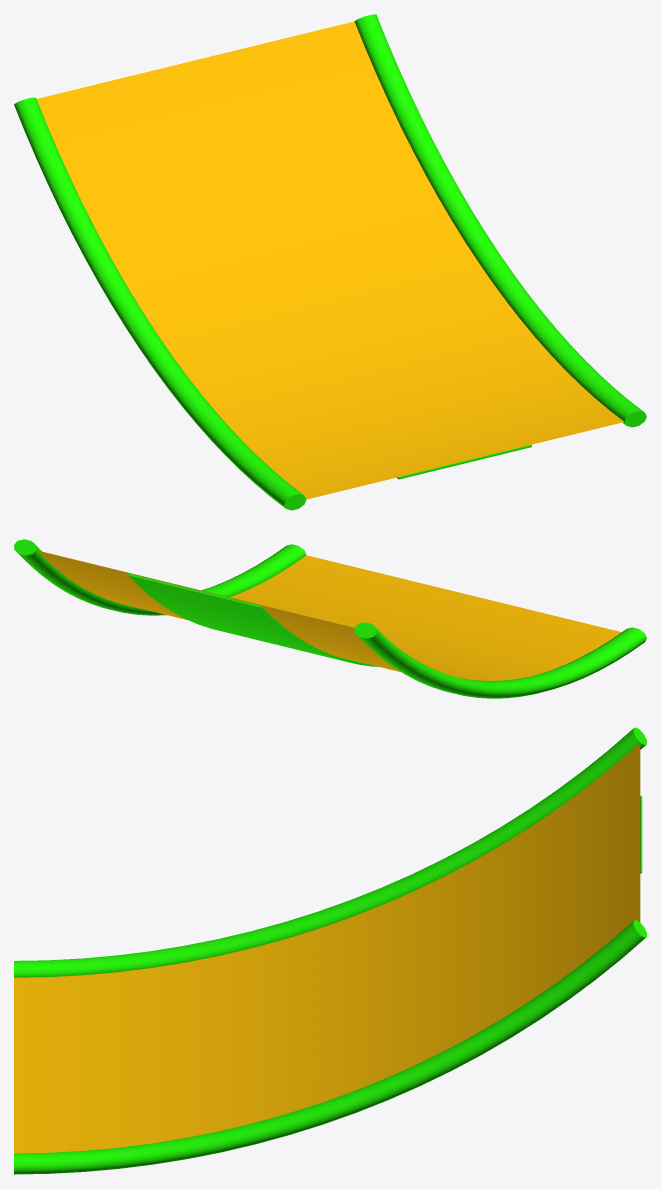
The model's file is Ramp J 45.FBX.
The picture shows the model from 3 angles, top to bottom: view 1: azimuth 30°, elevation 25°; view 2: azimuth 150°, elevation 25°; view 3: azimuth 270°, elevation 25°; orthographic projection. The views are drawn at different scales.
Visible parts, largest first — view 1: Plane002; view 2: Plane002; view 3: Plane002.
Part boxes in pixels (x1=…): Plane002: x1=14, y1=14, x2=646, y2=510; Plane002: x1=14, y1=539, x2=646, y2=698; Plane002: x1=14, y1=727, x2=646, y2=1174.
Bounding box in the file's own units: 1.9 × 1.08 × 2.48.
